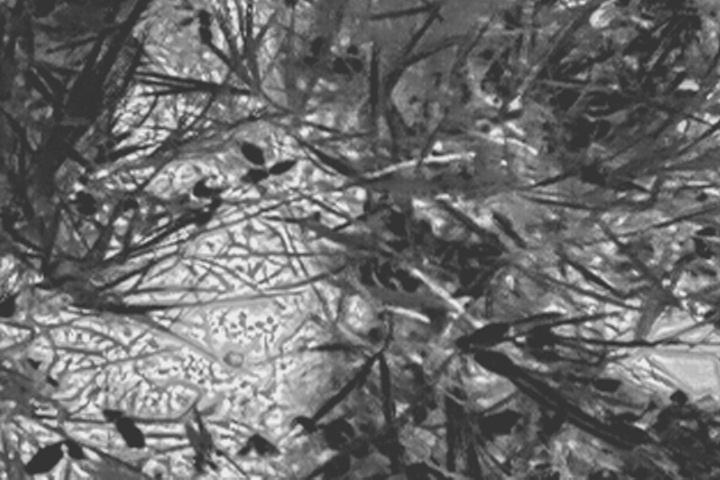landmine: (0, 190, 346, 474)
